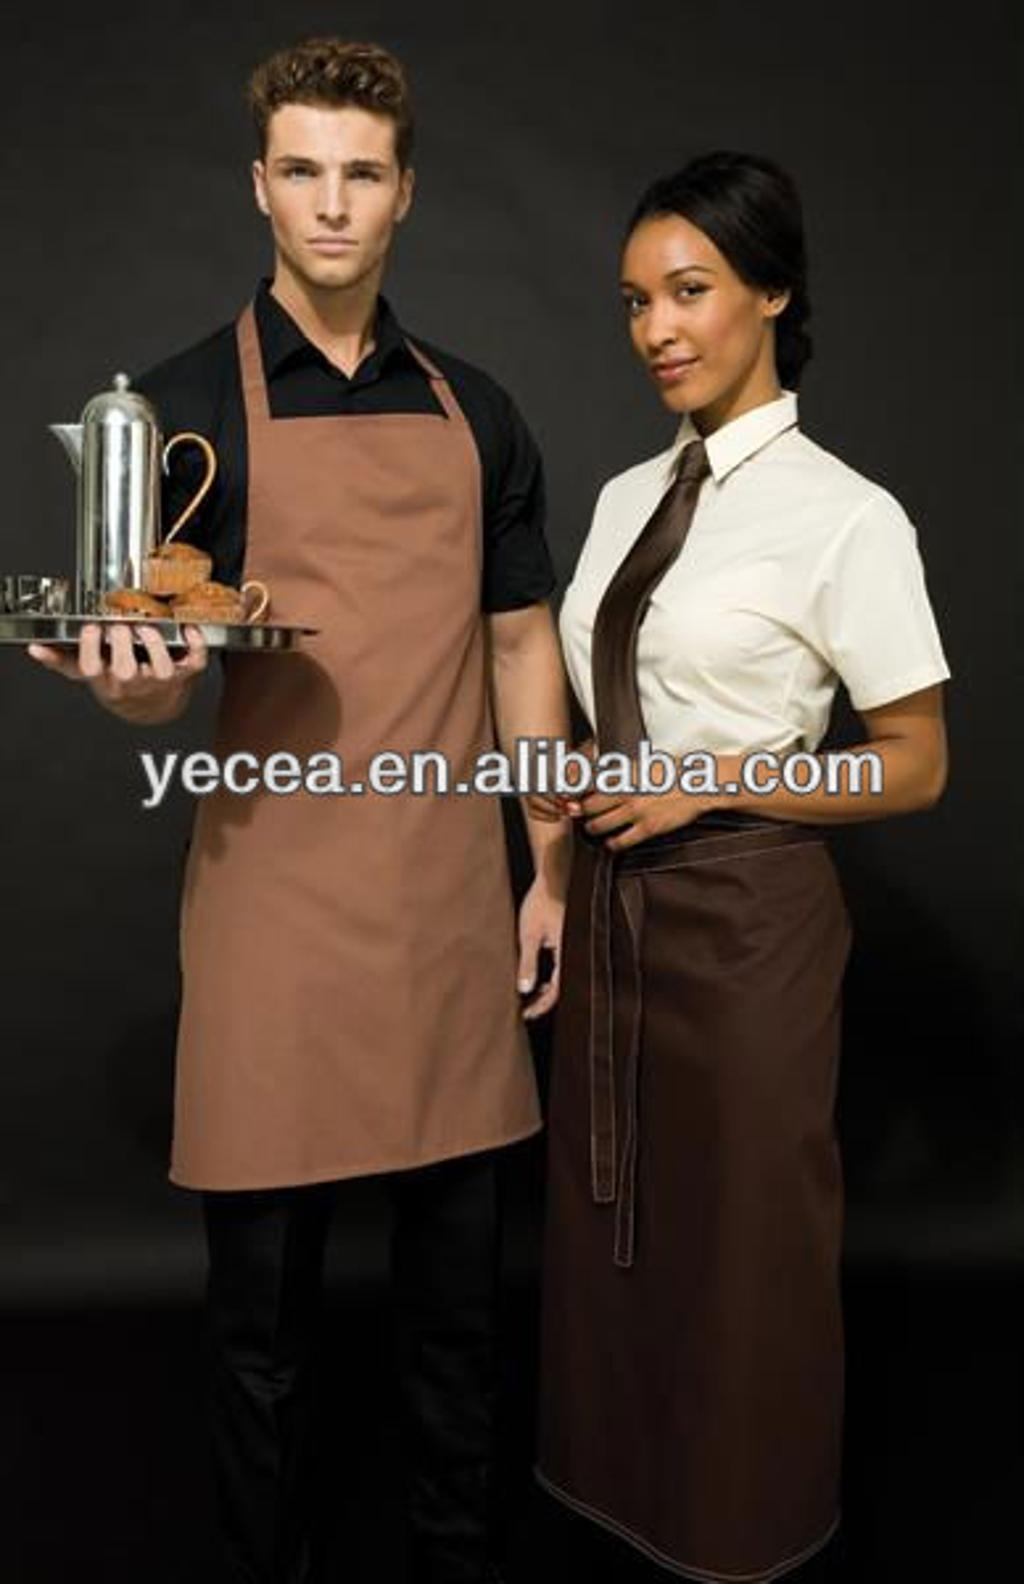face: (619, 213, 764, 417), (260, 90, 408, 282)
